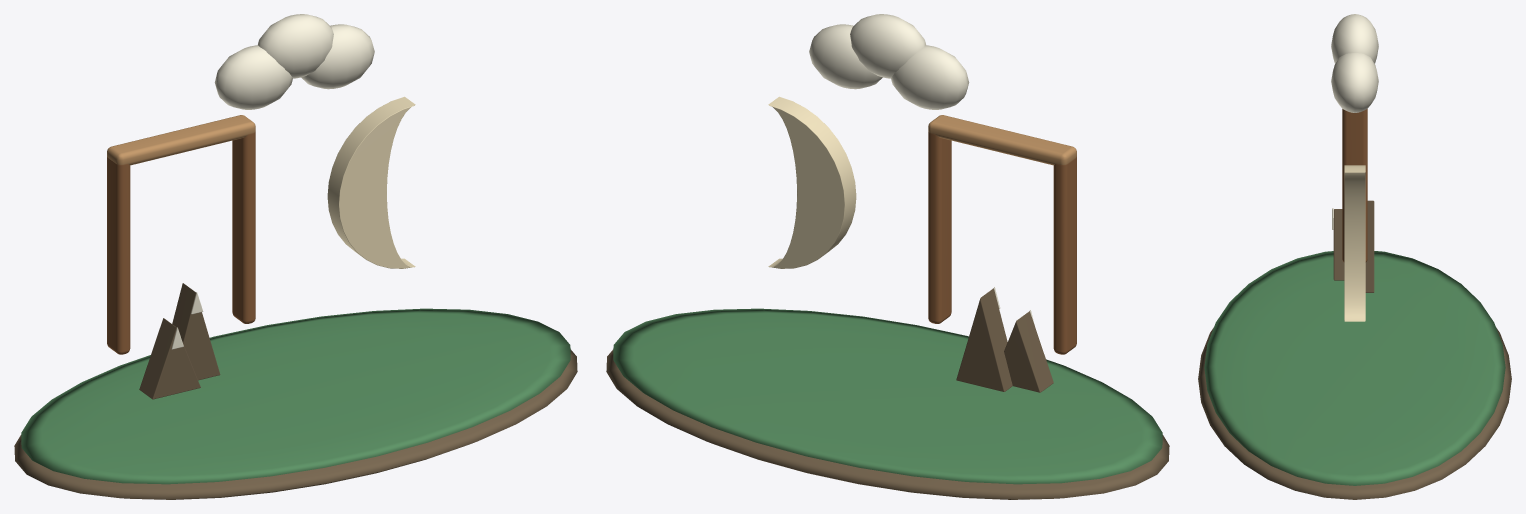
The model's file is complete-first-moon-gate-overcast.glb.
The picture shows the model from 3 angles, left to right: view 1: azimuth 30°, elevation 25°; view 2: azimuth 150°, elevation 25°; view 3: azimuth 270°, elevation 25°; orthographic projection. The views are drawn at different scales.
Visible parts, largest first — view 1: complete-first-moon-gate-overcast_surface_01, complete-first-moon-gate-overcast_surface_00, complete-first-moon-gate-overcast_surface_05, complete-first-moon-gate-overcast_surface_02, complete-first-moon-gate-overcast_surface_04, complete-first-moon-gate-overcast_surface_03; view 2: complete-first-moon-gate-overcast_surface_01, complete-first-moon-gate-overcast_surface_00, complete-first-moon-gate-overcast_surface_05, complete-first-moon-gate-overcast_surface_02, complete-first-moon-gate-overcast_surface_04, complete-first-moon-gate-overcast_surface_03; view 3: complete-first-moon-gate-overcast_surface_01, complete-first-moon-gate-overcast_surface_00, complete-first-moon-gate-overcast_surface_05, complete-first-moon-gate-overcast_surface_04, complete-first-moon-gate-overcast_surface_02.
Part boxes in pixels (x1,y1,x2,y2): complete-first-moon-gate-overcast_surface_01: [21, 308, 570, 484]; complete-first-moon-gate-overcast_surface_00: [14, 283, 577, 499]; complete-first-moon-gate-overcast_surface_05: [171, 14, 374, 349]; complete-first-moon-gate-overcast_surface_02: [107, 132, 255, 354]; complete-first-moon-gate-overcast_surface_04: [327, 96, 415, 268]; complete-first-moon-gate-overcast_surface_03: [107, 115, 255, 165]; complete-first-moon-gate-overcast_surface_01: [613, 308, 1162, 484]; complete-first-moon-gate-overcast_surface_00: [606, 288, 1169, 499]; complete-first-moon-gate-overcast_surface_05: [809, 14, 1034, 325]; complete-first-moon-gate-overcast_surface_02: [928, 132, 1076, 354]; complete-first-moon-gate-overcast_surface_04: [768, 96, 856, 268]; complete-first-moon-gate-overcast_surface_03: [928, 115, 1076, 165]; complete-first-moon-gate-overcast_surface_01: [1204, 251, 1505, 485]; complete-first-moon-gate-overcast_surface_00: [1198, 200, 1511, 499]; complete-first-moon-gate-overcast_surface_05: [1331, 14, 1378, 229]; complete-first-moon-gate-overcast_surface_04: [1344, 165, 1365, 321]; complete-first-moon-gate-overcast_surface_02: [1342, 109, 1367, 262].
Size of the model in its own units: 4.56 by 3.3 by 2.5.
